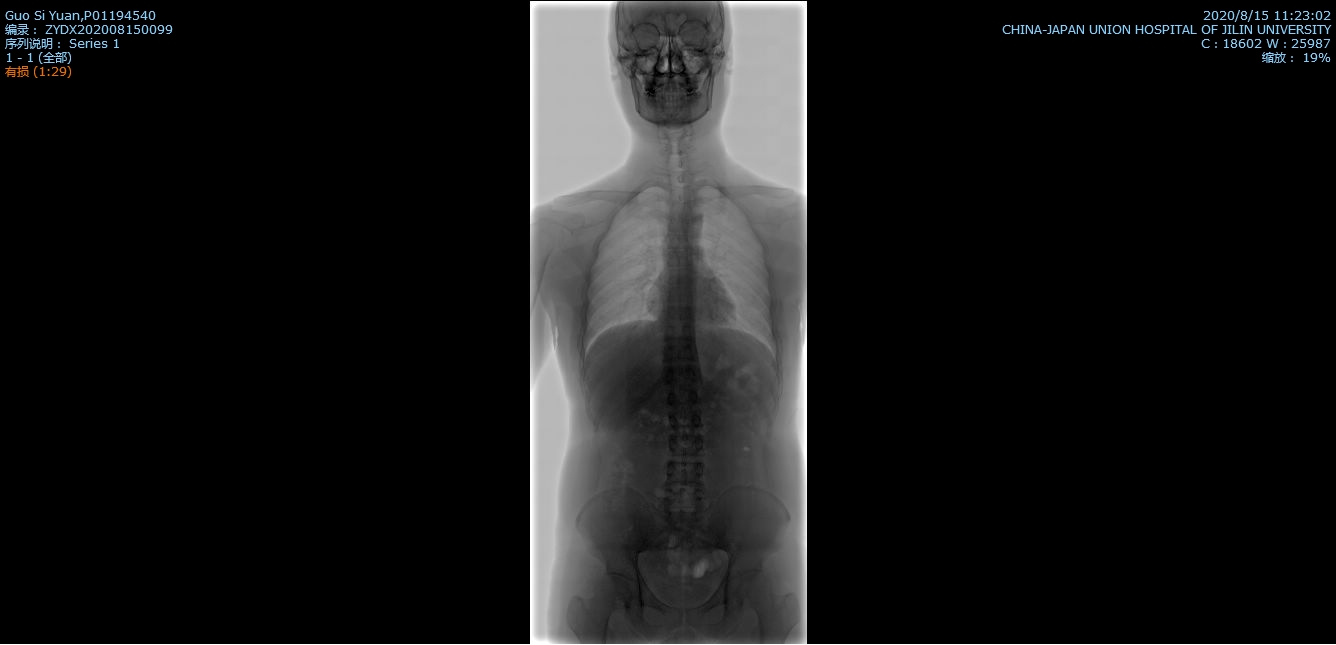Bone: (666, 492, 704, 514), (667, 461, 703, 483), (668, 435, 704, 454), (663, 368, 700, 385), (670, 412, 702, 428), (671, 391, 703, 407), (664, 346, 698, 361), (666, 325, 696, 341), (666, 304, 693, 320), (667, 287, 692, 302), (669, 267, 692, 282), (668, 249, 692, 263)
